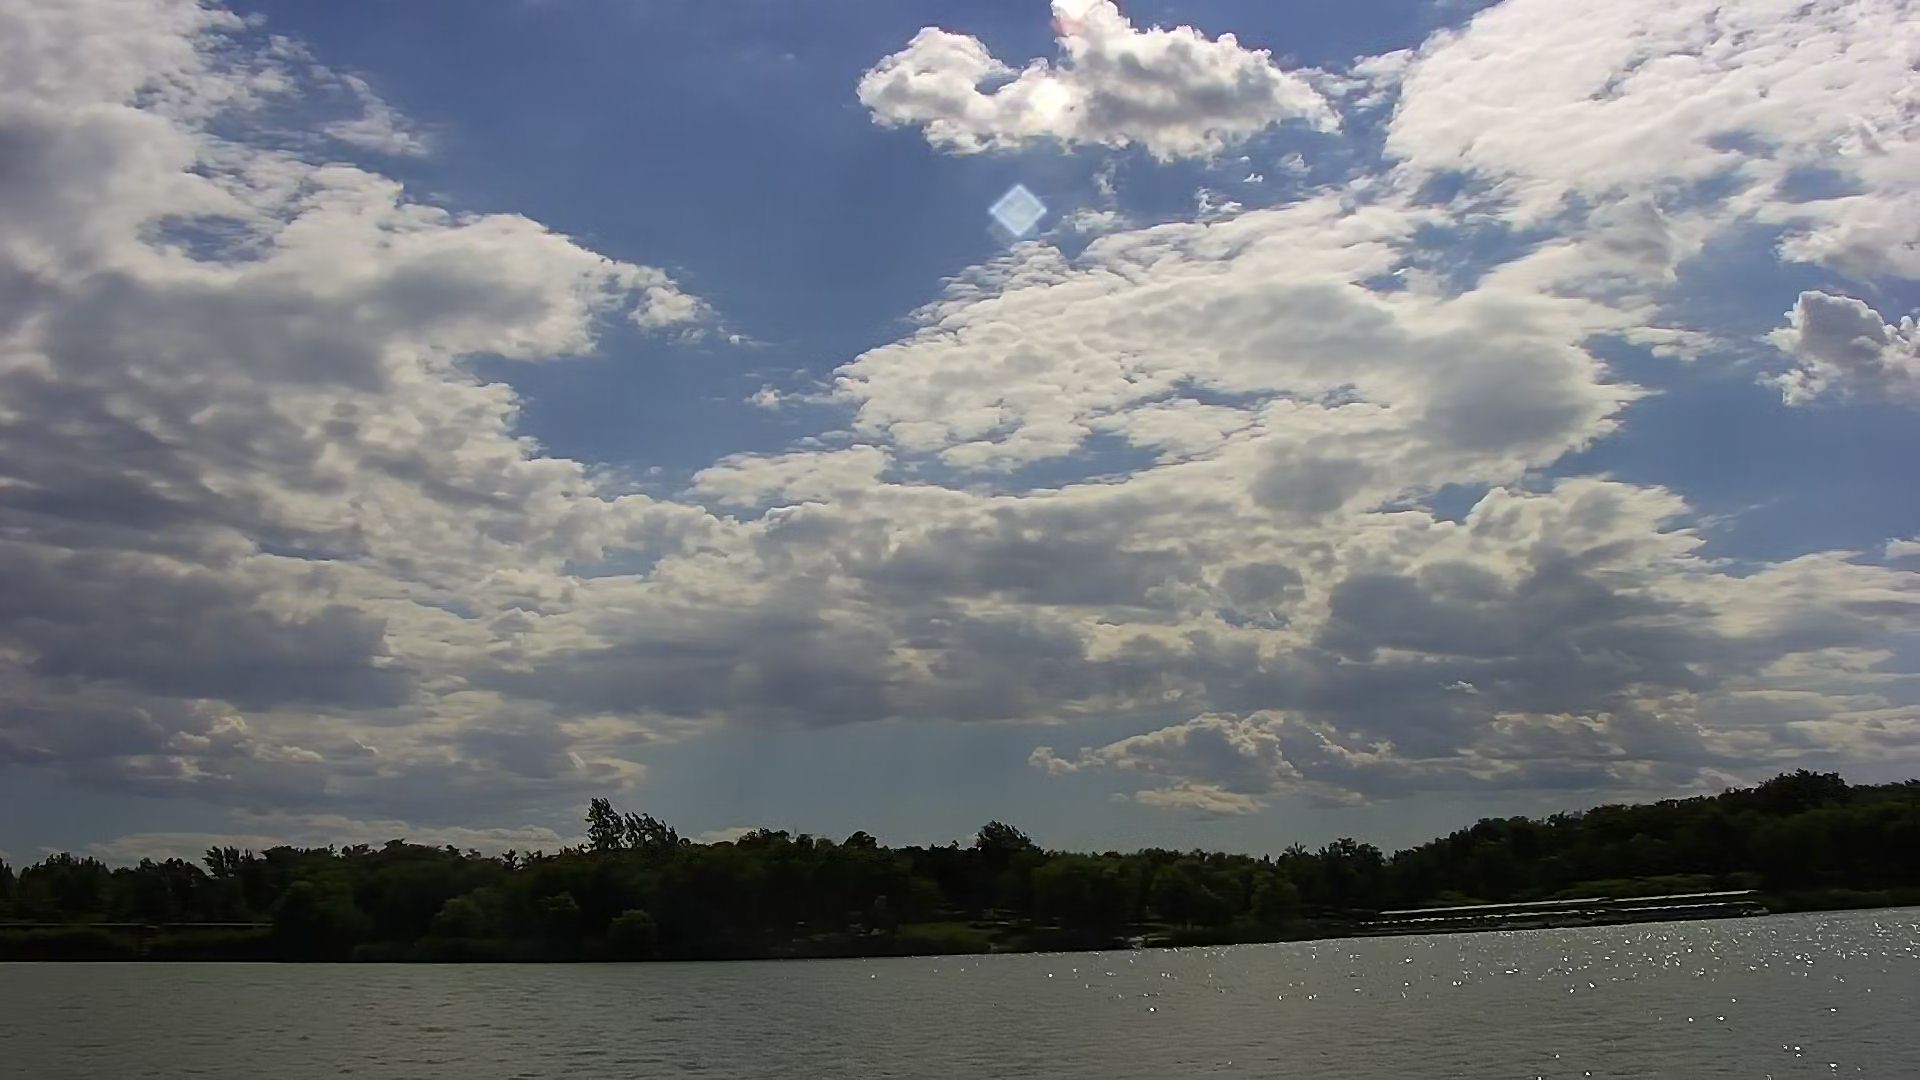harbor: (1360, 876, 1788, 939)
